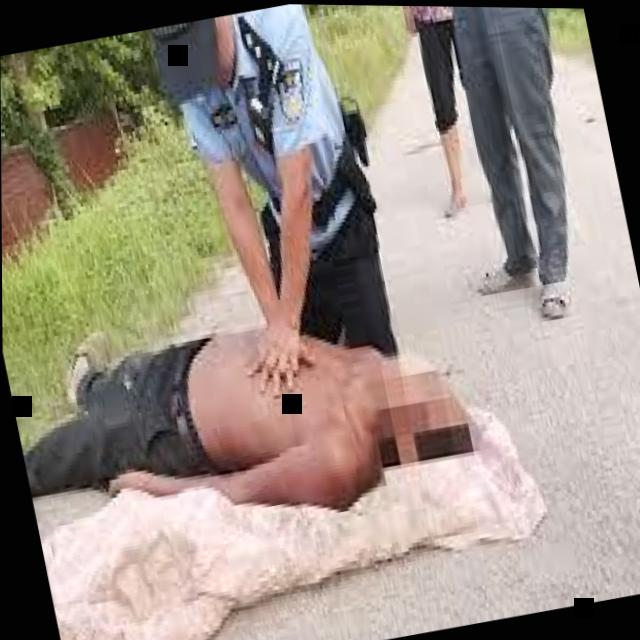Fall-Detected: (1, 246, 486, 567)
